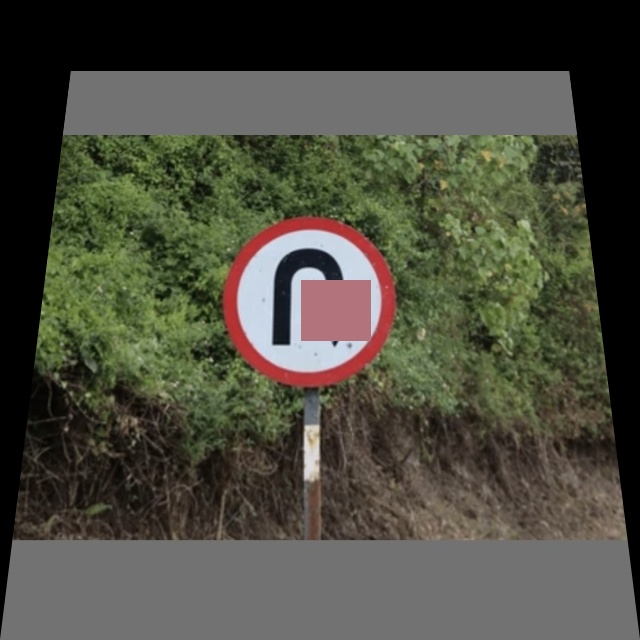U_Turn_Ahead: (220, 220, 404, 381)
